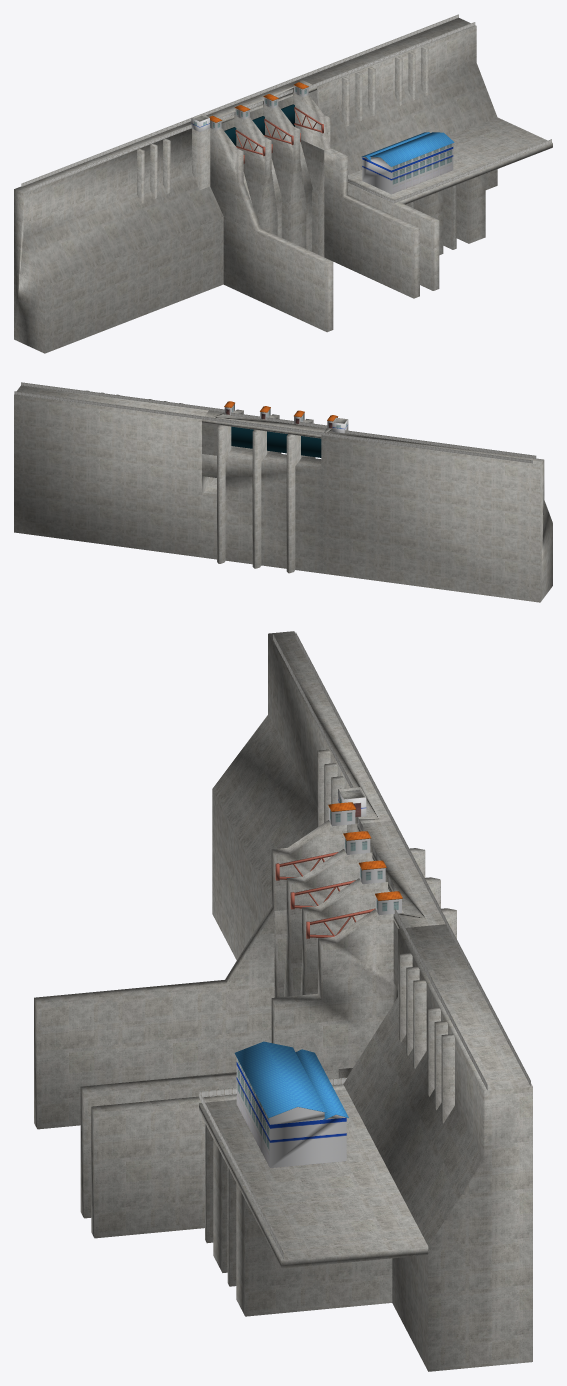
The model's file is SDZ.gltf.
3 views of the same model, one above another, from view 1: azimuth 30°, elevation 25°; view 2: azimuth 150°, elevation 25°; view 3: azimuth 270°, elevation 25° (orthographic). The views are drawn at different scales.
Visible parts, largest first — view 1: SDZ_001~Material__2_materialGroup_0, SDZ_001~Material__226_materialGroup_12, SDZ_001~Material__39_materialGroup_1, SDZ_001~Material__65_materialGroup_4, SDZ_001~Material__52_materialGroup_2, SDZ_001~Material__27_materialGroup_13, SDZ_001~Material__146_materialGroup_9, SDZ_001~Material__14_materialGroup_3; view 2: SDZ_001~Material__2_materialGroup_0, SDZ_001~Material__226_materialGroup_12, SDZ_001~Material__14_materialGroup_3; view 3: SDZ_001~Material__2_materialGroup_0, SDZ_001~Material__65_materialGroup_4, SDZ_001~Material__226_materialGroup_12, SDZ_001~Material__52_materialGroup_2, SDZ_001~Material__39_materialGroup_1, SDZ_001~Material__146_materialGroup_9, SDZ_001~Material__27_materialGroup_13.
Part boxes in pixels (x1,y1,x2,y2): SDZ_001~Material__2_materialGroup_0: (14,17,552,353); SDZ_001~Material__226_materialGroup_12: (21,14,551,203); SDZ_001~Material__39_materialGroup_1: (391,143,453,193); SDZ_001~Material__65_materialGroup_4: (361,132,454,166); SDZ_001~Material__52_materialGroup_2: (362,157,391,193); SDZ_001~Material__27_materialGroup_13: (235,107,323,163); SDZ_001~Material__146_materialGroup_9: (210,85,308,130); SDZ_001~Material__14_materialGroup_3: (224,104,294,145); SDZ_001~Material__2_materialGroup_0: (14,385,552,602); SDZ_001~Material__226_materialGroup_12: (14,382,536,463); SDZ_001~Material__14_materialGroup_3: (231,426,321,457); SDZ_001~Material__2_materialGroup_0: (34,631,532,1371); SDZ_001~Material__65_materialGroup_4: (234,1041,348,1120); SDZ_001~Material__226_materialGroup_12: (199,632,530,1258); SDZ_001~Material__52_materialGroup_2: (270,1107,346,1167); SDZ_001~Material__39_materialGroup_1: (236,1058,269,1167); SDZ_001~Material__146_materialGroup_9: (329,807,401,915); SDZ_001~Material__27_materialGroup_13: (275,852,375,938).
Bounding box in the file's own units: 213 × 61.21 × 93.93.
Materials: 14 (14 with a texture image).
